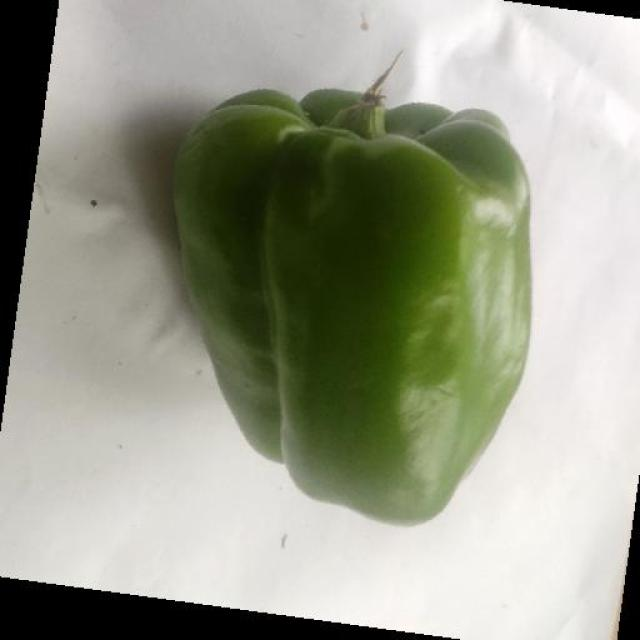Fresh_Capsicum: (157, 47, 528, 523)
